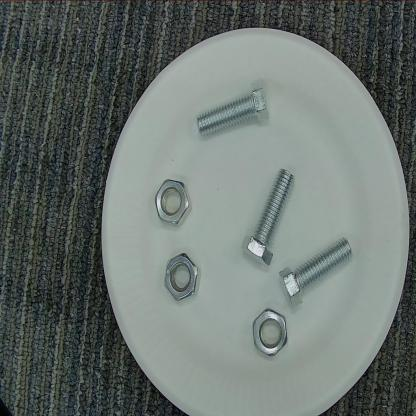FOD: (240, 167, 298, 274), (276, 235, 353, 309), (197, 78, 271, 142), (152, 173, 194, 231), (250, 307, 290, 362), (163, 252, 202, 307)
